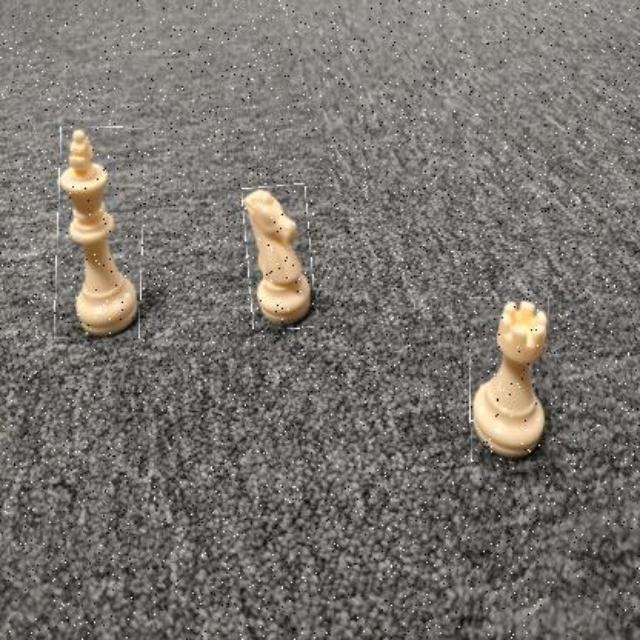white-king: (56, 128, 142, 340)
white-knight: (244, 185, 313, 331)
white-rook: (471, 297, 551, 460)
